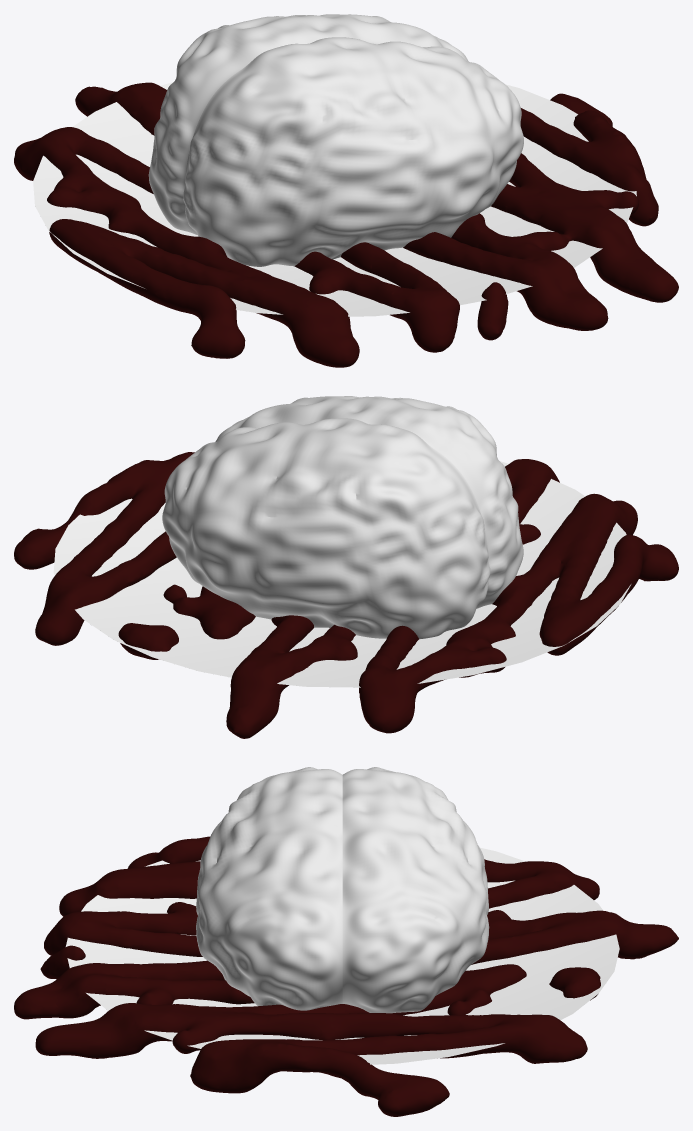
File: Экспр brain.fbx
3 views of the same model, one above another, from view 1: azimuth 30°, elevation 25°; view 2: azimuth 150°, elevation 25°; view 3: azimuth 270°, elevation 25° (orthographic). The views are drawn at different scales.
Parts seen in each view (by area): view 1: Cube.004, Ketchup, Cylinder; view 2: Cube.004, Ketchup, Cylinder; view 3: Ketchup, Cube.004, Cylinder.
Boxes of the visible parts, x1,y1,x2,y2 form: Cube.004: [148, 14, 523, 266]; Ketchup: [14, 82, 678, 367]; Cylinder: [33, 82, 636, 316]; Cube.004: [162, 396, 523, 639]; Ketchup: [14, 452, 678, 738]; Cylinder: [53, 461, 631, 687]; Ketchup: [14, 836, 678, 1116]; Cube.004: [196, 767, 489, 1013]; Cylinder: [65, 847, 619, 1064].
Bounding box in the file's own units: 32.51 × 11.5 × 36.11.
